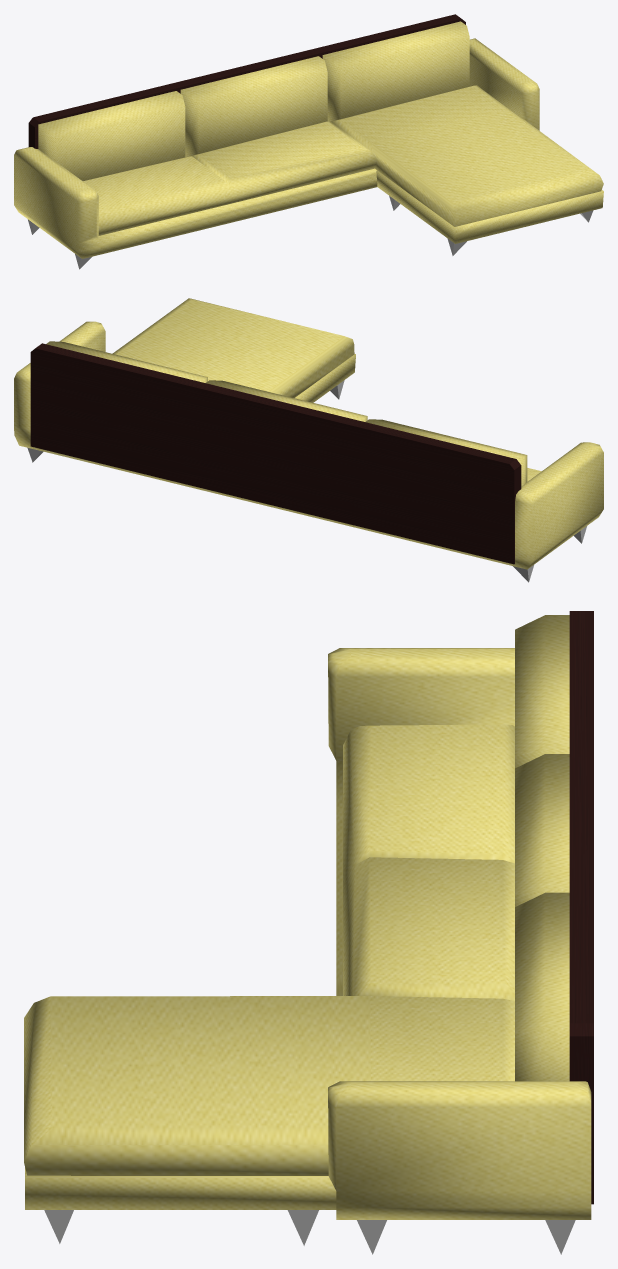
Rendered from Chaise_Sofa_A_04.FBX.
3 views of the same model, one above another, from view 1: azimuth 30°, elevation 25°; view 2: azimuth 150°, elevation 25°; view 3: azimuth 270°, elevation 25° (orthographic). The views are drawn at different scales.
Visible parts, largest first — view 1: Chaise_Sofa_A; view 2: Chaise_Sofa_A; view 3: Chaise_Sofa_A.
Part boxes in pixels (<box>): Chaise_Sofa_A: <box>14,14,603,269</box>; Chaise_Sofa_A: <box>14,298,603,582</box>; Chaise_Sofa_A: <box>24,611,593,1254</box>.
Bounding box in the file's own units: 685 × 157 × 366.
